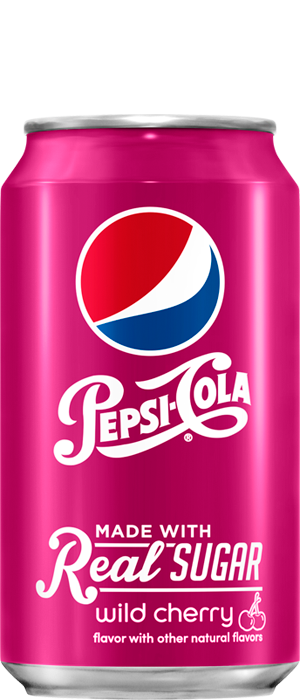pepsi: (70, 203, 225, 354), (73, 203, 225, 354)
